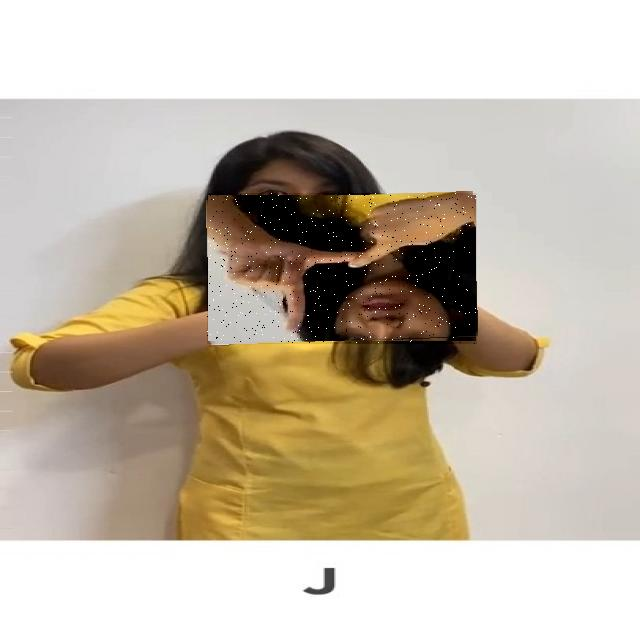J: (207, 193, 477, 344)
